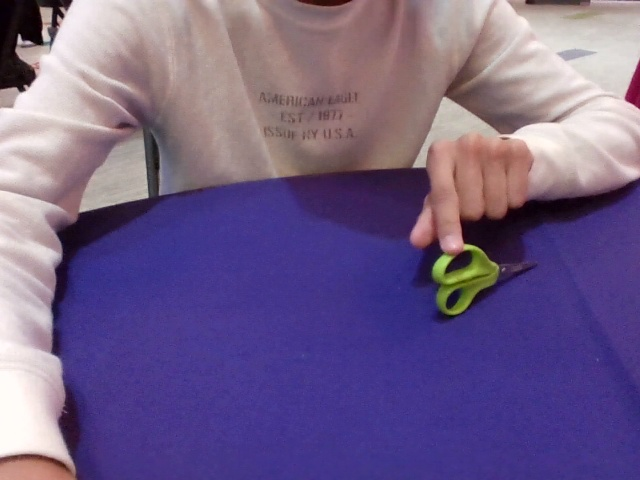tijeras: (407, 173, 537, 319)
